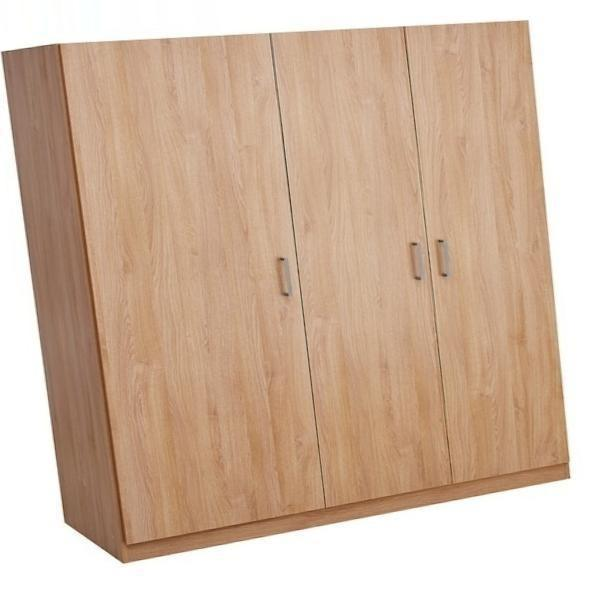Armario: (6, 24, 582, 562)
